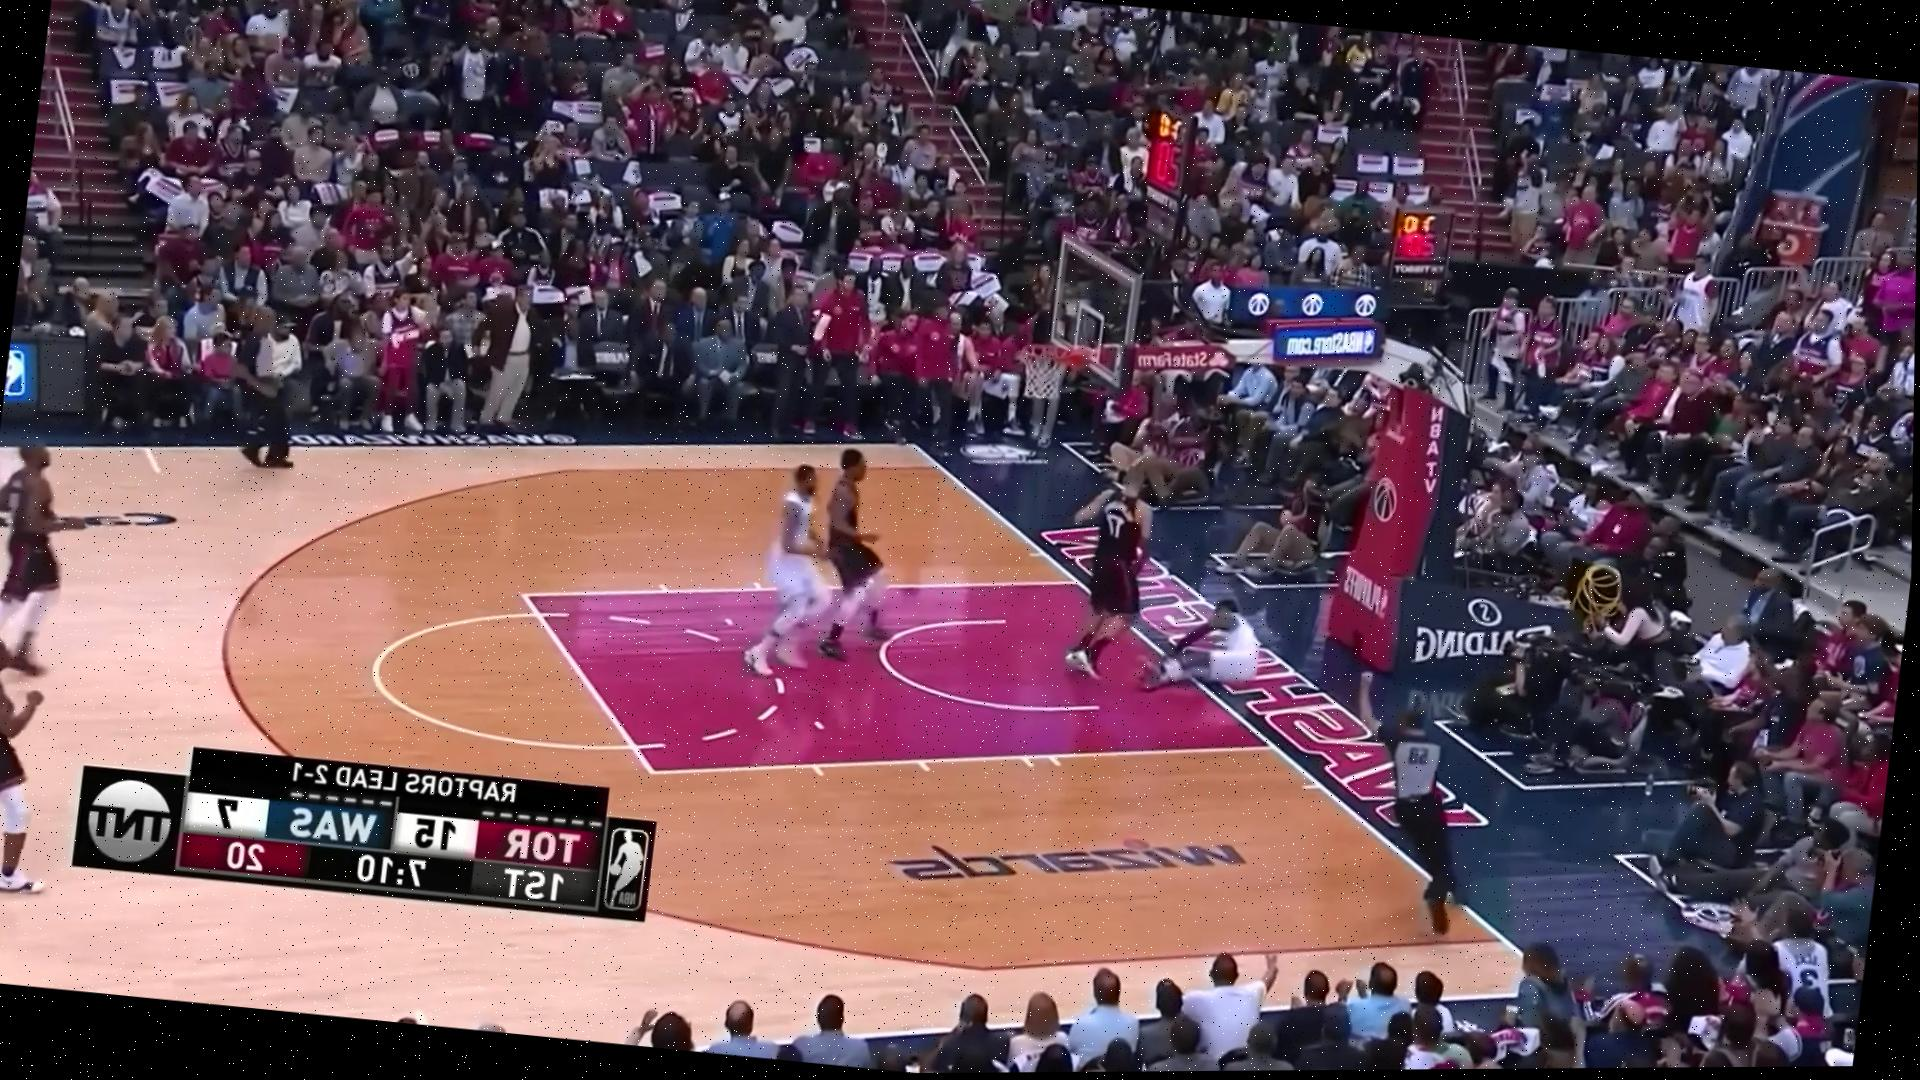foul: (1054, 465, 1263, 690)
